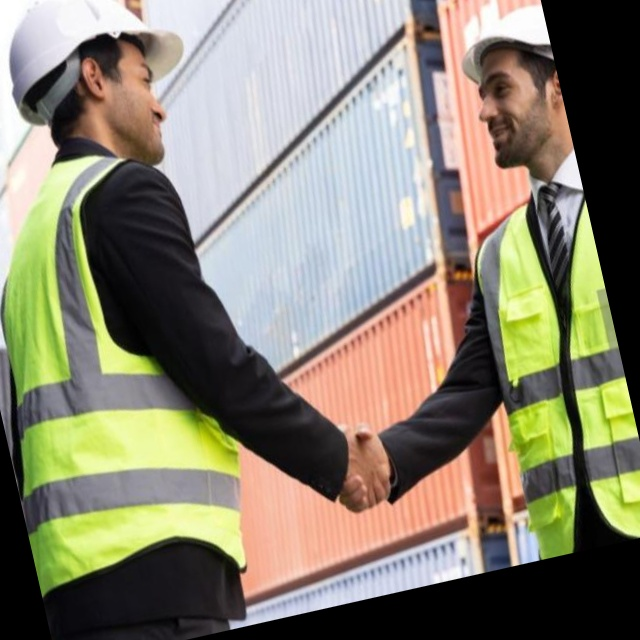Con_Casco: (0, 0, 208, 186), (452, 2, 577, 184)
Con_Chaleco: (0, 128, 274, 616), (453, 186, 640, 562)
